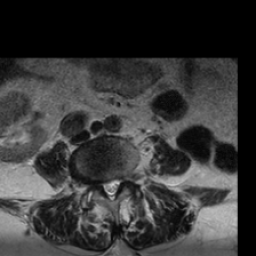CCS_normal: (107, 173, 114, 205)
LFS_stenosis: (122, 169, 128, 188)
LLS_normal: (114, 172, 121, 192)
RFS_severe_stenosis: (91, 173, 99, 194)
RLS_stenosis: (99, 176, 107, 196)
